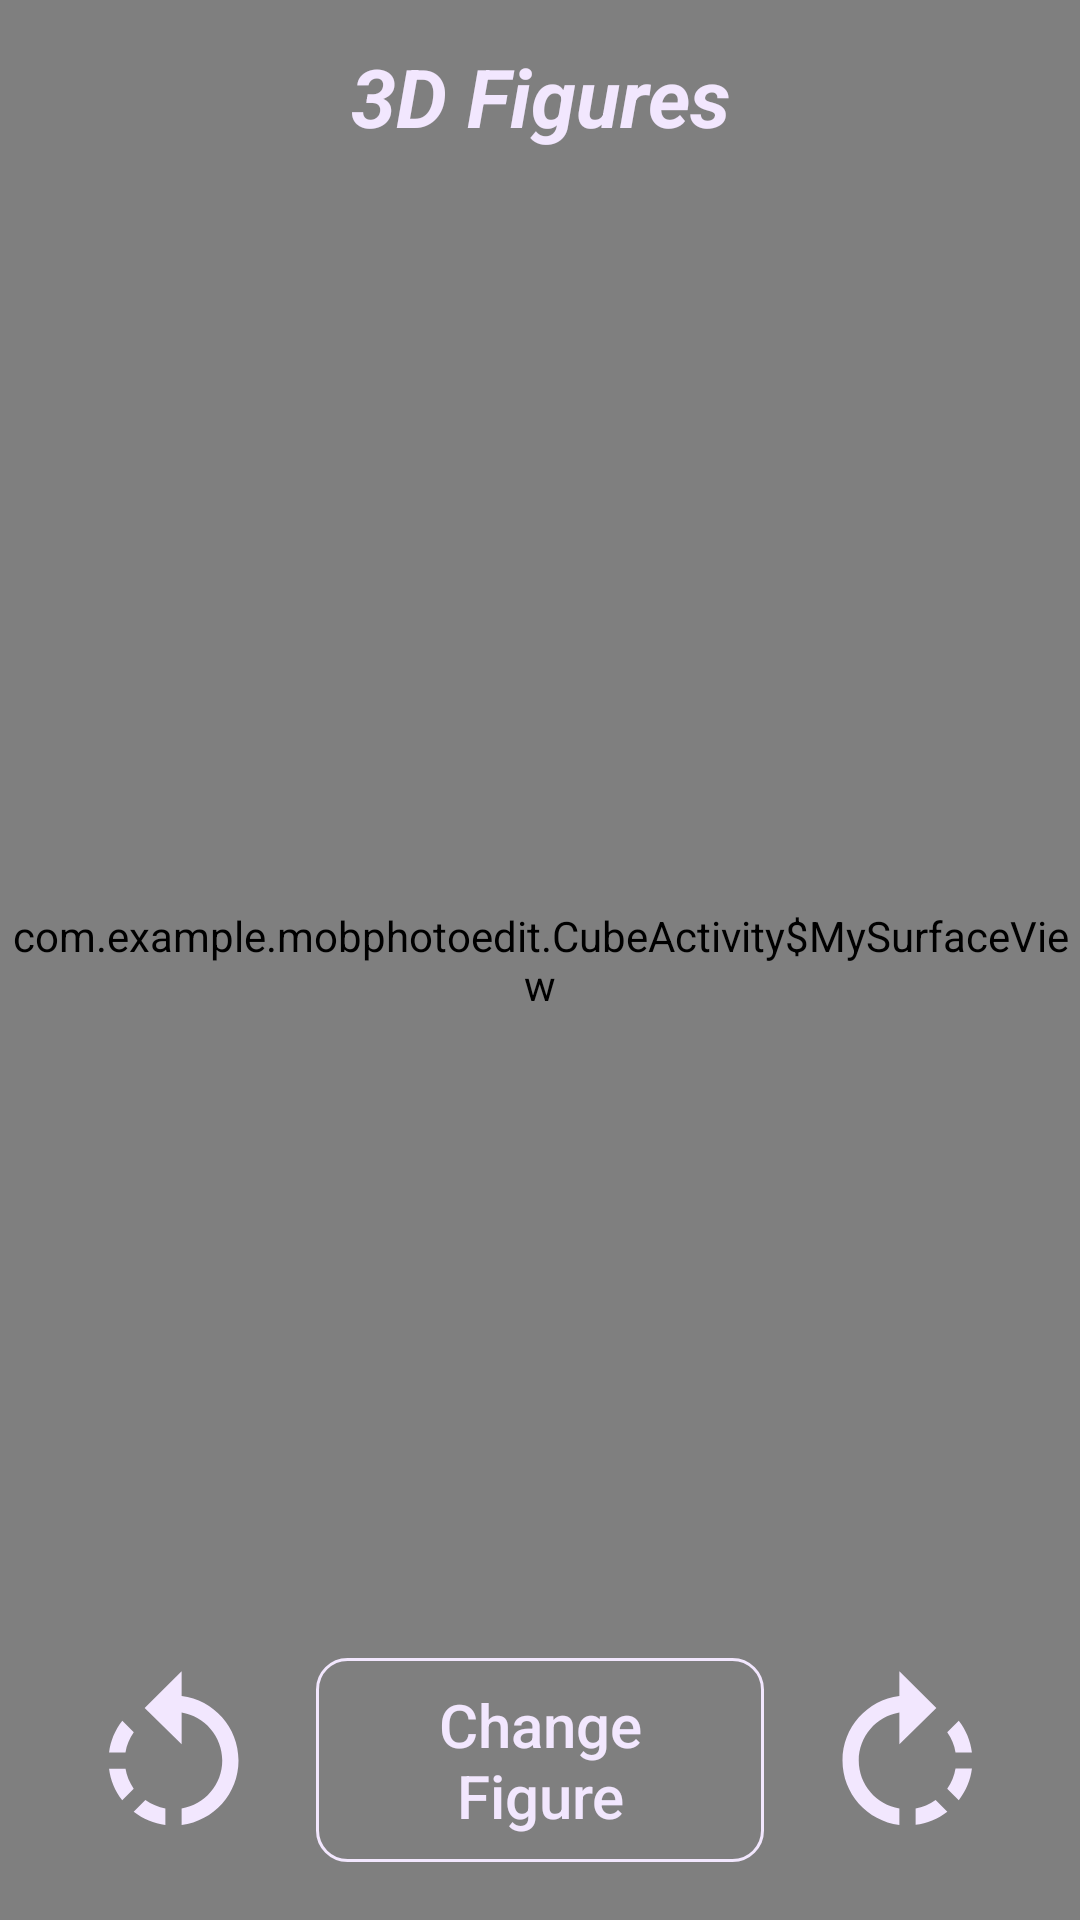

Named icons in this screenshot (1080px×1920px) and their centers, [x,y]:
Clockwise turning: [907,1748]
Counter clockwise turning: [174,1748]
